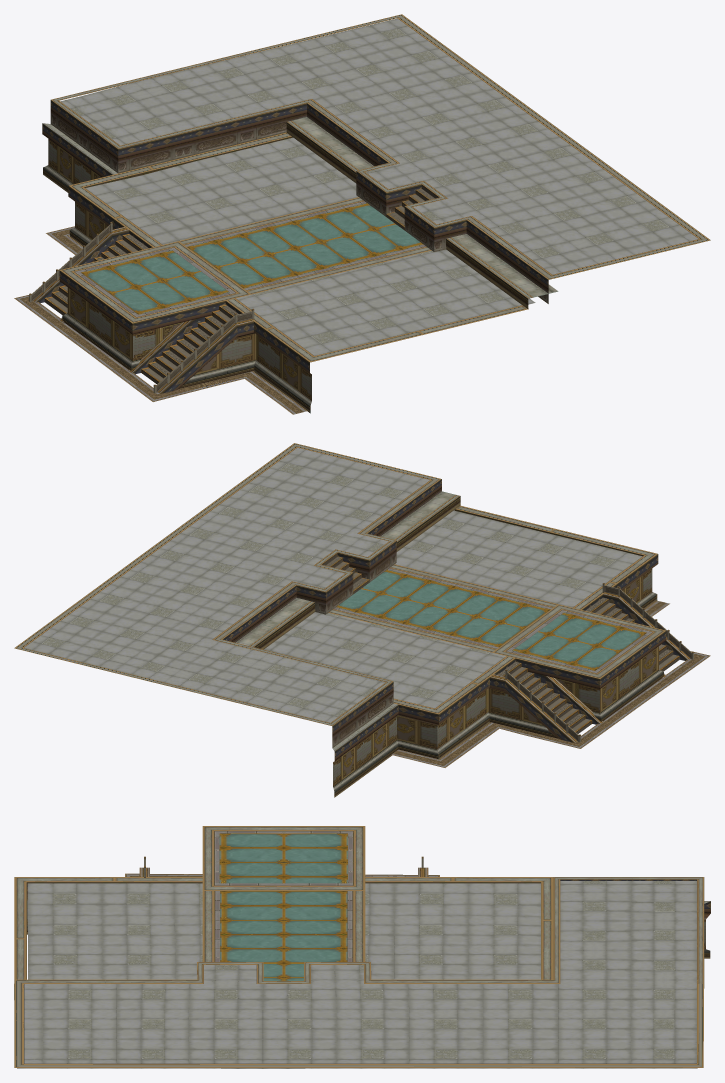
The model's file is Yland1_jz_07 Yland1.FBX.
3 views of the same model, one above another, from view 1: azimuth 30°, elevation 25°; view 2: azimuth 150°, elevation 25°; view 3: azimuth 270°, elevation 25° (orthographic). The views are drawn at different scales.
Parts seen in each view (by area): view 1: Yland1_jz_07 Yland1; view 2: Yland1_jz_07 Yland1; view 3: Yland1_jz_07 Yland1.
Boxes of the visible parts, x1,y1,x2,y2 form: Yland1_jz_07 Yland1: (14, 14, 710, 414); Yland1_jz_07 Yland1: (14, 443, 710, 797); Yland1_jz_07 Yland1: (14, 826, 710, 1068).
Bounding box in the file's own units: 45.89 × 6.66 × 48.76.
